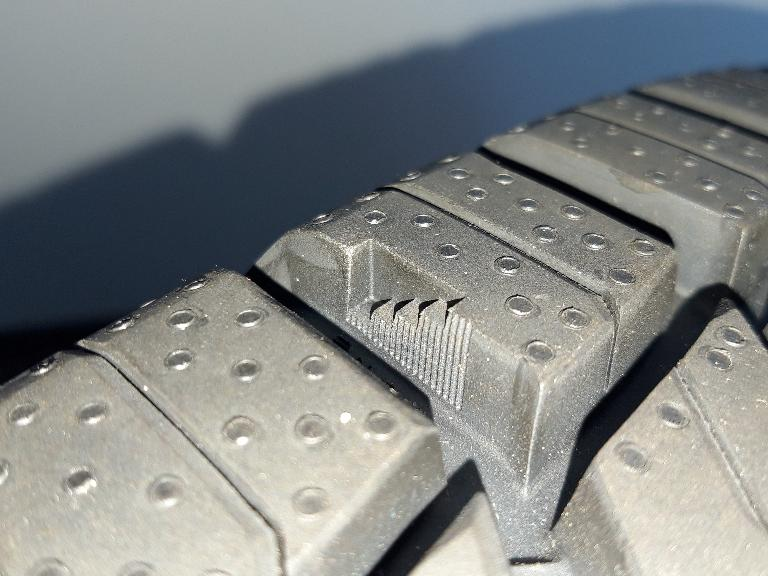temoin:100: (334, 231, 486, 419)
